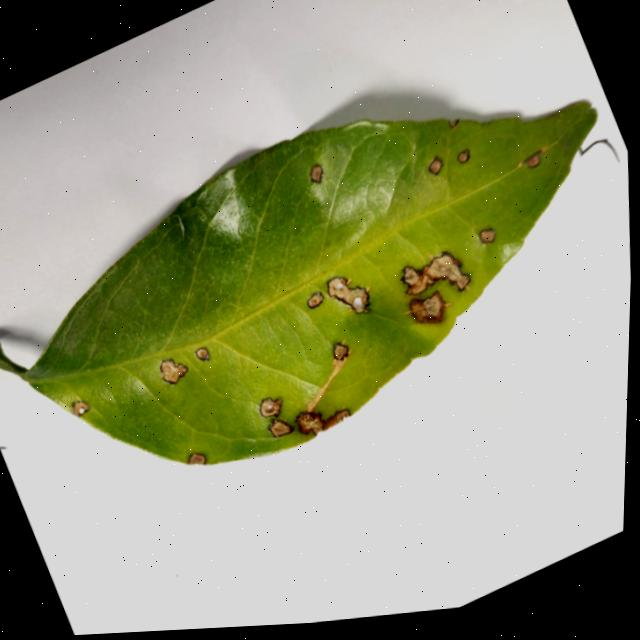antracnose: (0, 103, 596, 466), (402, 253, 470, 295), (328, 277, 368, 313), (295, 410, 350, 434), (410, 292, 449, 324), (160, 359, 188, 384), (268, 419, 293, 438), (522, 149, 545, 168), (260, 398, 282, 417), (333, 343, 349, 361), (310, 164, 323, 184), (72, 402, 89, 417), (479, 229, 496, 244), (308, 293, 323, 309), (429, 157, 442, 175), (457, 149, 470, 164), (196, 348, 210, 361), (188, 454, 206, 464), (448, 119, 459, 129)
